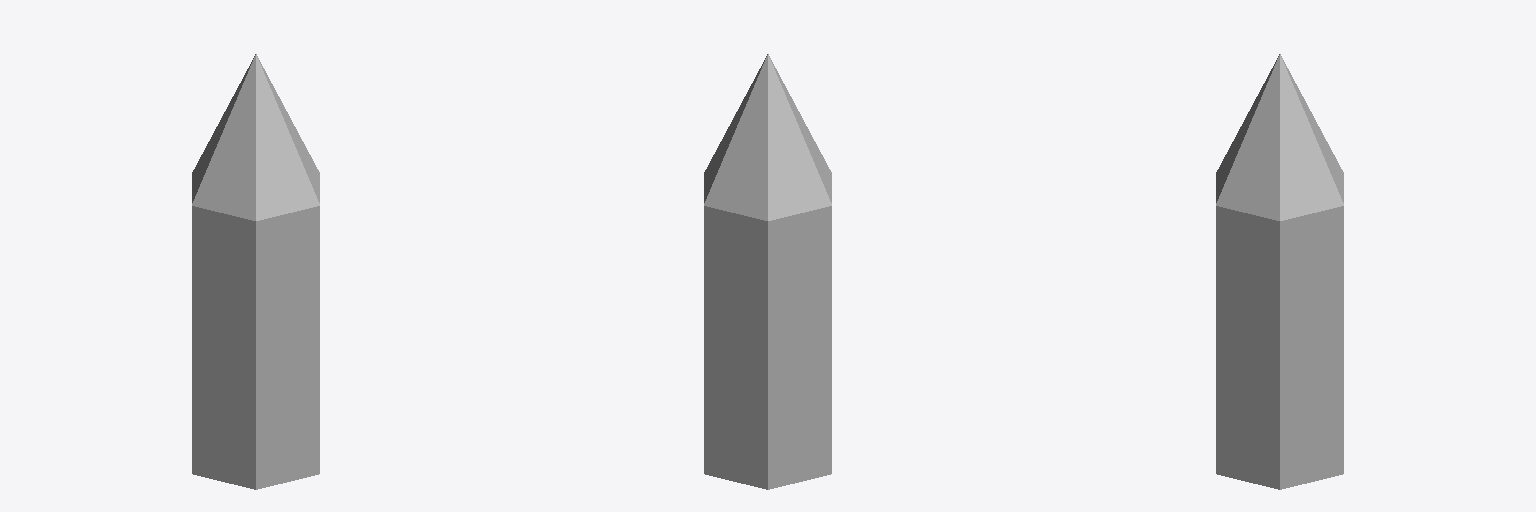
The model's file is Projectile 1 Fixed.obj.
The picture shows the model from 3 angles: view 1: azimuth 30°, elevation 25°; view 2: azimuth 150°, elevation 25°; view 3: azimuth 270°, elevation 25°; orthographic projection.
Parts seen in each view (by area): view 1: Projectile 1 Fixed; view 2: Projectile 1 Fixed; view 3: Projectile 1 Fixed.
Boxes of the visible parts, <box> form: Projectile 1 Fixed: <box>192,54,319,489</box>; Projectile 1 Fixed: <box>704,54,831,489</box>; Projectile 1 Fixed: <box>1216,54,1343,489</box>.
Bounding box in the file's own units: 1 × 3 × 0.866.